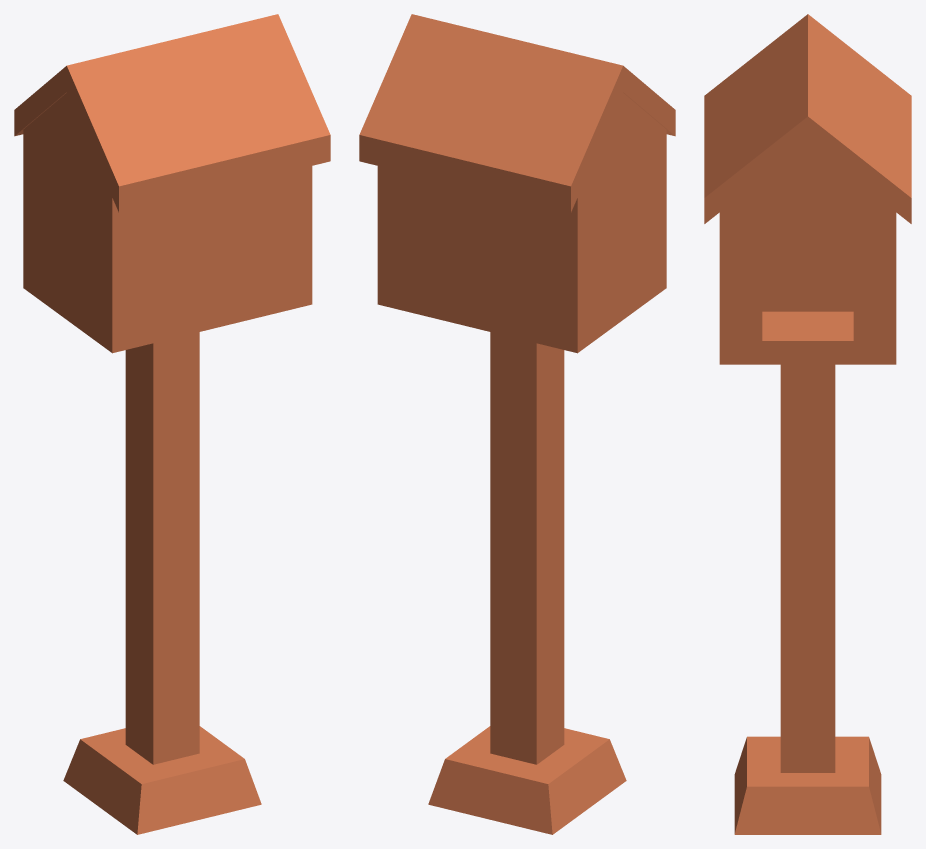
The model's file is MailBox.glb.
3 renders of one model, left to right at view 1: azimuth 30°, elevation 25°; view 2: azimuth 150°, elevation 25°; view 3: azimuth 270°, elevation 25°, orthographic.
Visible parts, largest first — view 1: Cube.047; view 2: Cube.047; view 3: Cube.047.
Part boxes in pixels (x1,y1,x2,y2): Cube.047: (14, 14, 330, 834); Cube.047: (359, 14, 675, 834); Cube.047: (704, 14, 911, 834).
Bounding box in the file's own units: 0.1792 × 0.6073 × 0.1535.
Materials: 1 (1 with a texture image).
